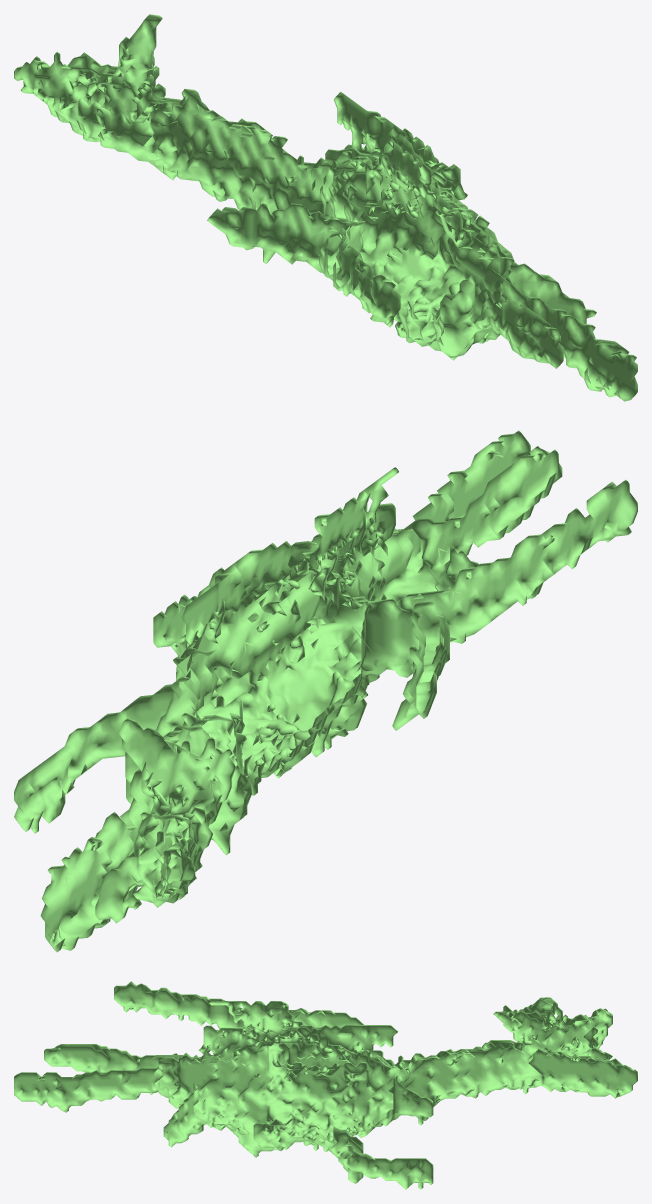
The model's file is osteocyte_54.glb.
The picture shows the model from 3 angles, top to bottom: view 1: azimuth 30°, elevation 25°; view 2: azimuth 150°, elevation 25°; view 3: azimuth 270°, elevation 25°; orthographic projection. The views are drawn at different scales.
Visible parts, largest first — view 1: osteocyte_54; view 2: osteocyte_54; view 3: osteocyte_54.
Boxes of the visible parts, x1,y1,x2,y2 form: osteocyte_54: [14, 14, 637, 401]; osteocyte_54: [14, 430, 637, 952]; osteocyte_54: [14, 981, 637, 1189].
Size of the model in its own units: 20.7 by 15.89 by 60.18.
